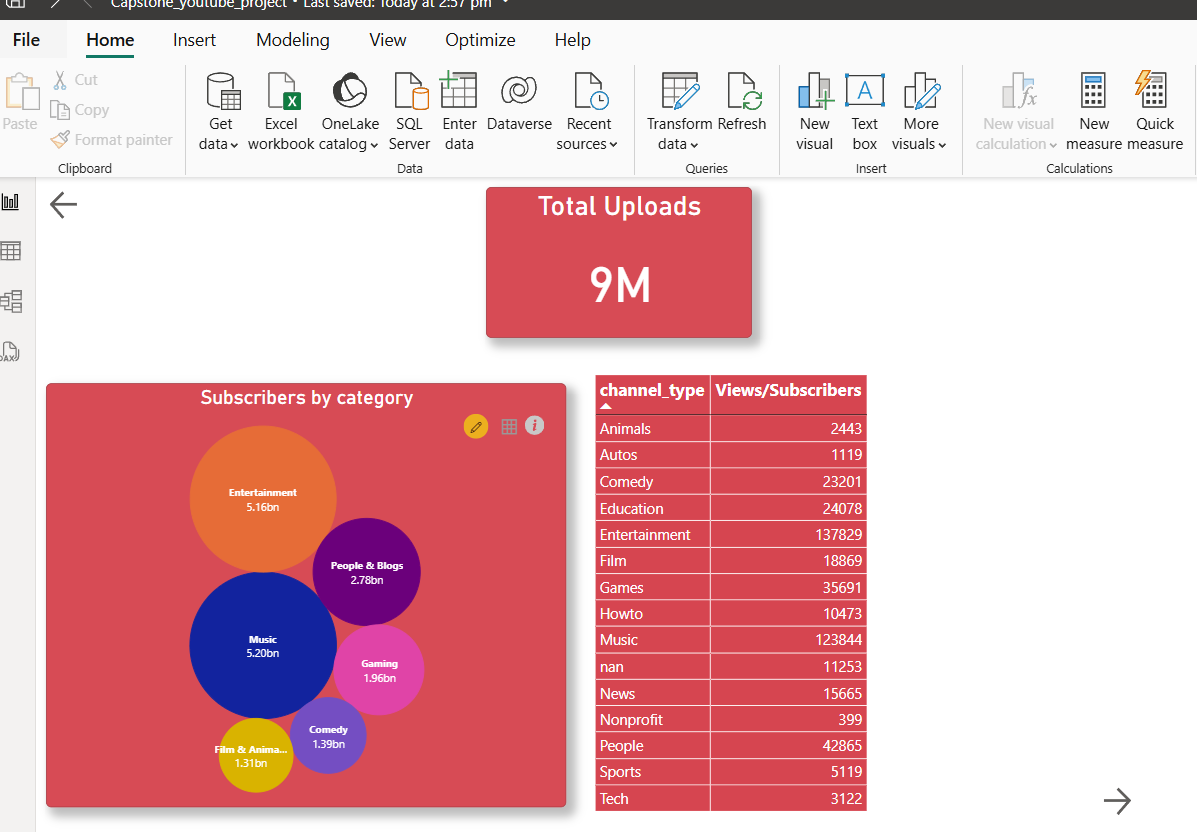

The page's visual inventory and layout, read from the dashboard file:
{"tool":"powerbi","page":{"name":"Page 2","canvas":[1280,720],"ordinal":1},"visuals":[{"type":"packedBubble563FBEFA65CC43A48496B6BB533D9890","title":"Subscribers by category","fields":{"measure":["Sum(Global YouTube Statistics.subscribers)"],"category":["Global YouTube Statistics.category"]},"box":[11,225.8,571.4,465.4],"z":0},{"type":"tableEx","fields":{"Values":["Global YouTube Statistics.channel_type","Sum(Global YouTube Statistics.Views/Subscribers)"]},"box":[607.2,212,369,492.9],"z":1000},{"type":"card","title":"Total Uploads","fields":{"Values":["Global YouTube Statistics.Total_Uploads"]},"box":[494.3,11,291.9,165.2],"z":2000},{"type":"actionButton","box":[11,11,100.5,39.9],"z":3000},{"type":"actionButton","box":[1166.3,665.1,100.5,39.9],"z":4000}]}

Visuals, with their boxes on the page's 1280x720 design canvas (x1, y1, x2, y2). These are canvas units, not pixel positions in the 1197x832 screenshot, which may show the page scaled, cropped or inside an application window:
"Subscribers by category" packedBubble563FBEFA65CC43A48496B6BB533D9890: (left=11, top=226, right=582, bottom=691)
tableEx - Global YouTube Statistics.channel_type x Sum(Global YouTube Statistics.Views/Subscribers): (left=607, top=212, right=976, bottom=705)
"Total Uploads" card: (left=494, top=11, right=786, bottom=176)
actionButton: (left=11, top=11, right=112, bottom=51)
actionButton: (left=1166, top=665, right=1267, bottom=705)
